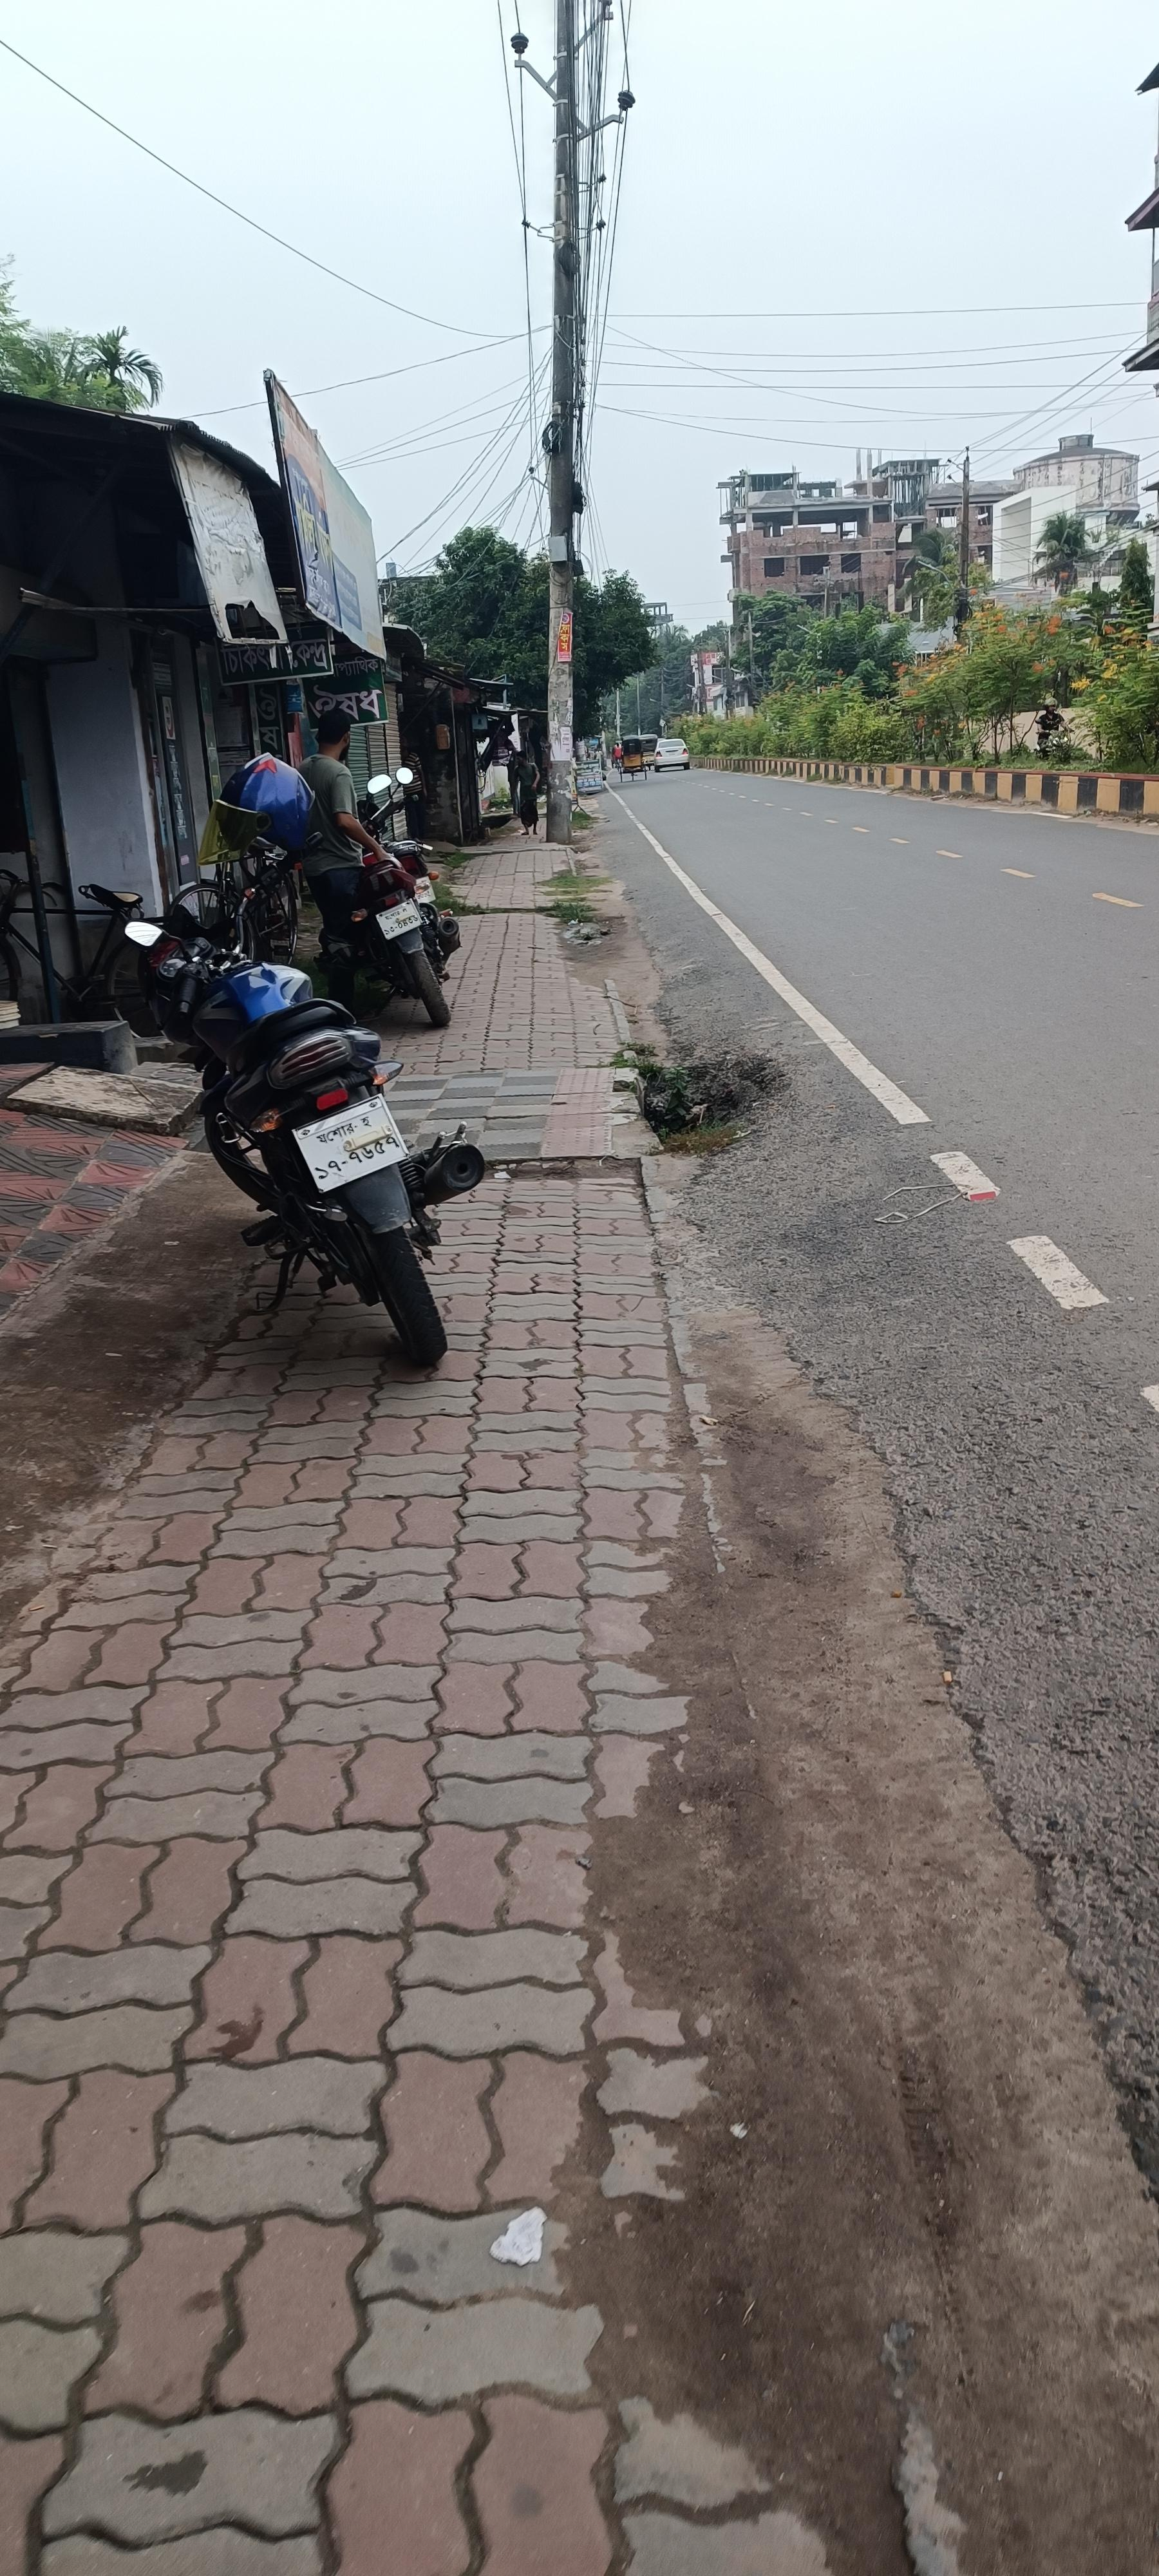Construction-barrier: (688, 751, 1157, 820)
Fallen-tree: (120, 884, 488, 1368)
Garbage-bin: (295, 708, 391, 1014)
Light-pole: (496, 66, 624, 851)
Pothole: (84, 948, 870, 2492)
